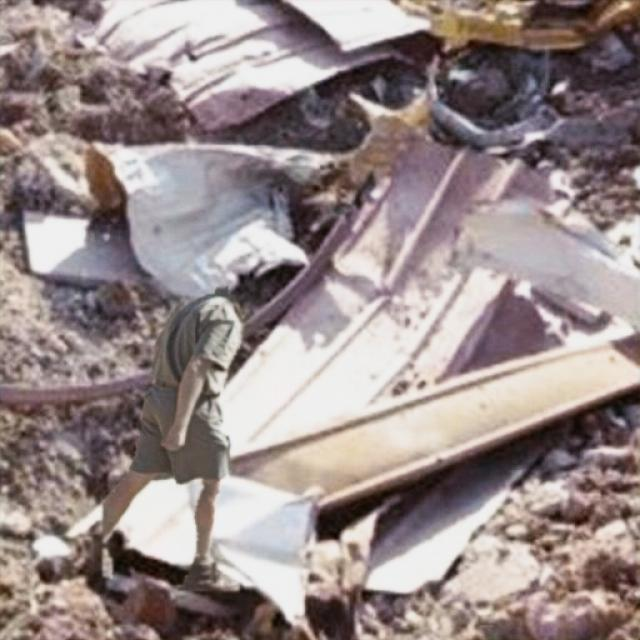Person in Rubble: (102, 285, 245, 590)
